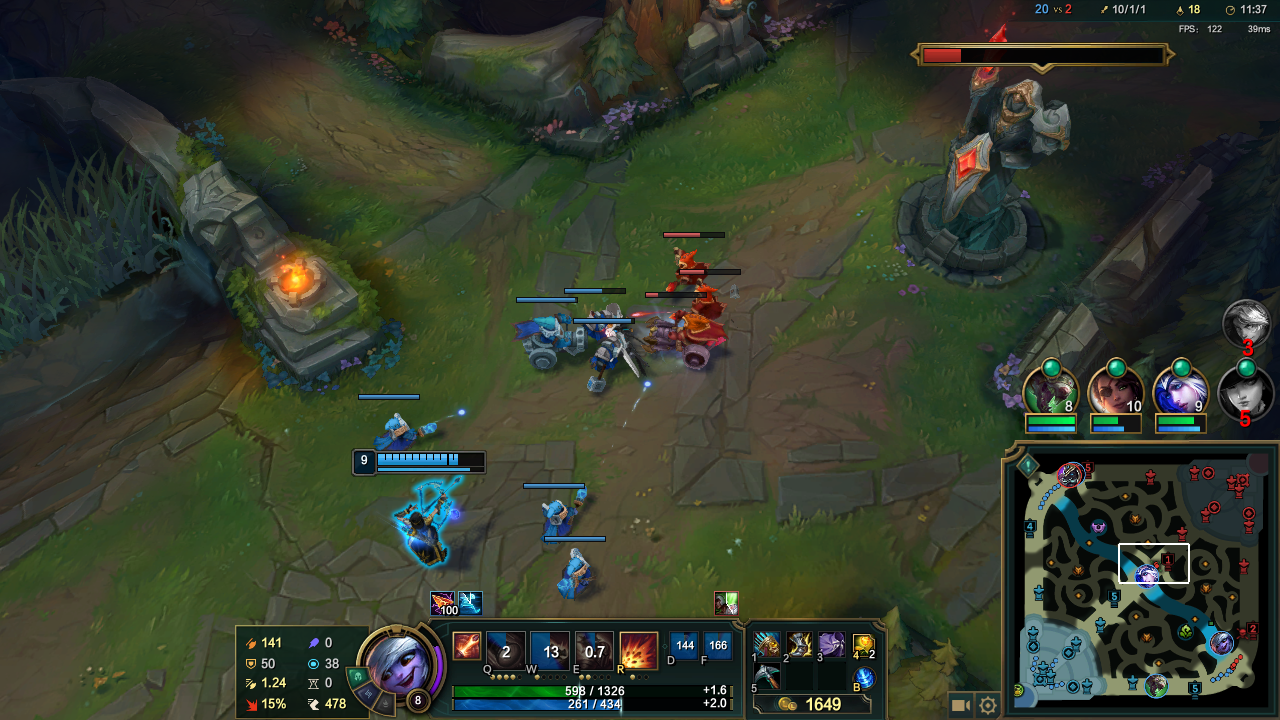DFFYT: (897, 32, 1073, 282)
DFXB: (641, 307, 724, 365), (688, 274, 728, 320), (671, 250, 713, 283)
WFXB: (530, 488, 600, 554), (515, 315, 598, 369), (543, 545, 601, 599), (365, 414, 445, 453), (586, 339, 632, 386), (583, 306, 632, 339)
Yita: (1185, 672, 1206, 703)
